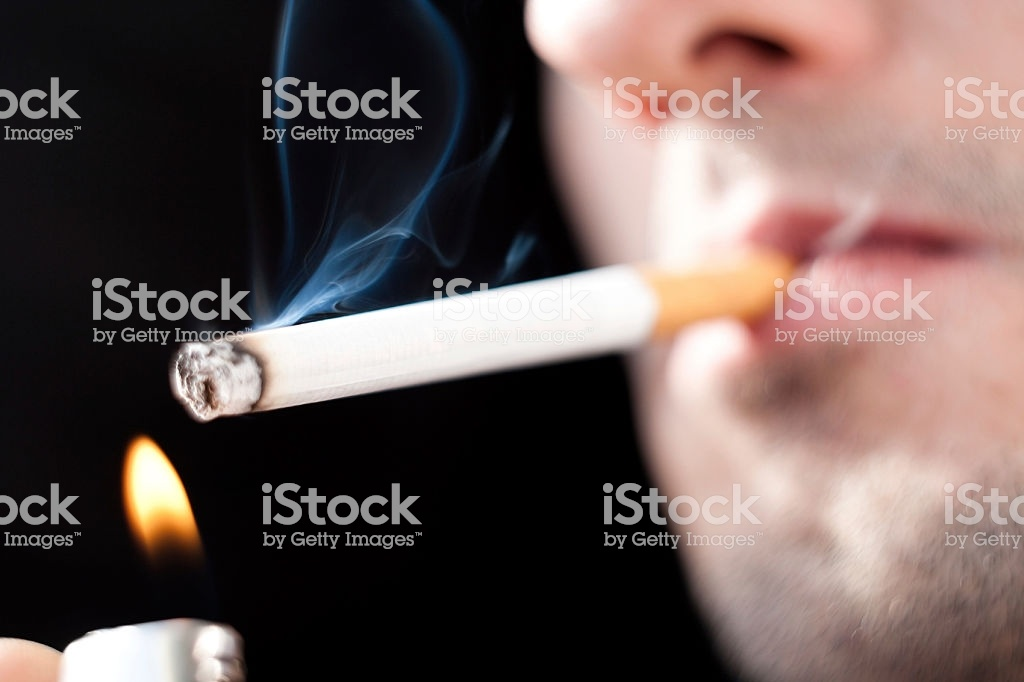sigaretta: (145, 218, 792, 425)
